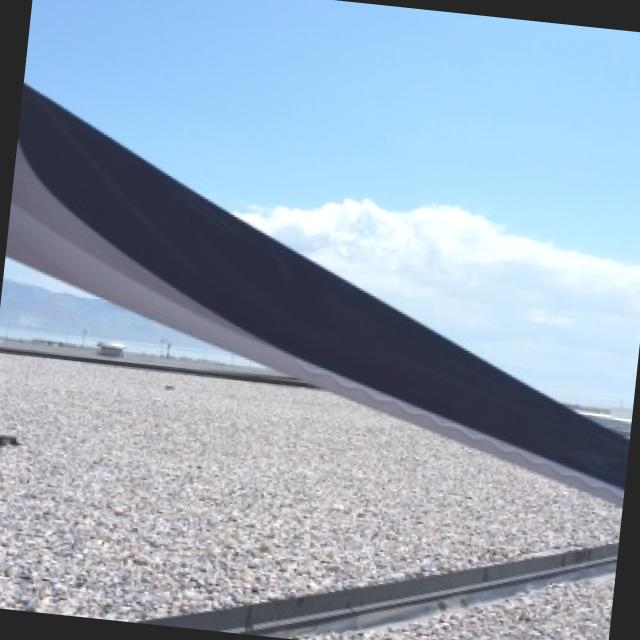healthy: (7, 83, 626, 500)
